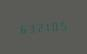five: (58, 18, 65, 32)
one: (42, 20, 49, 33)
six: (17, 22, 24, 35)
three: (25, 21, 32, 34)
two: (34, 20, 41, 34)
zero: (50, 19, 57, 32)
